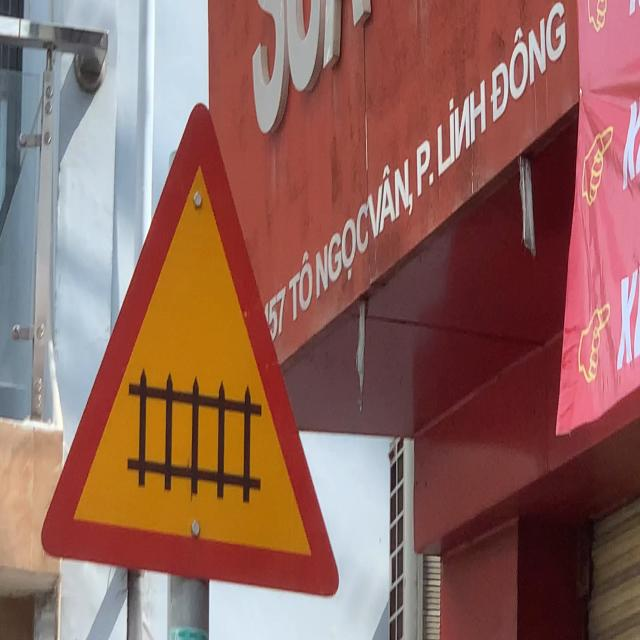Nguy hiem: (37, 99, 342, 606)
